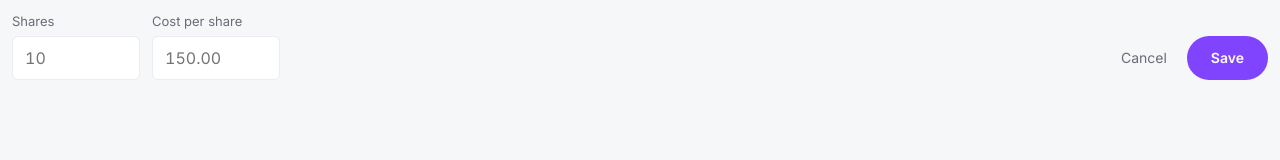
it: HoldingsForm error states › still marks the fields invalid when the value is the problem
Click the button "Save": click(1227, 58) [1187,36,1268,80]
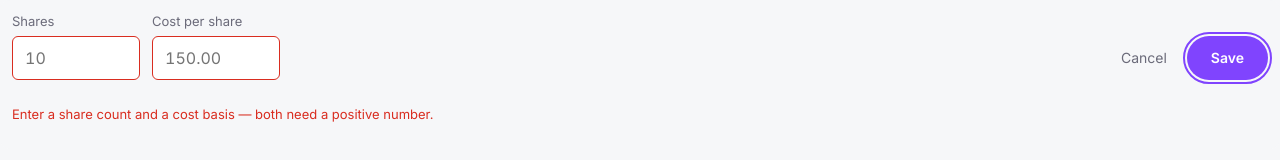
Expected: the message "Enter a share count and a cost basis — both need a positive number." is shown, [12,106,433,122]
